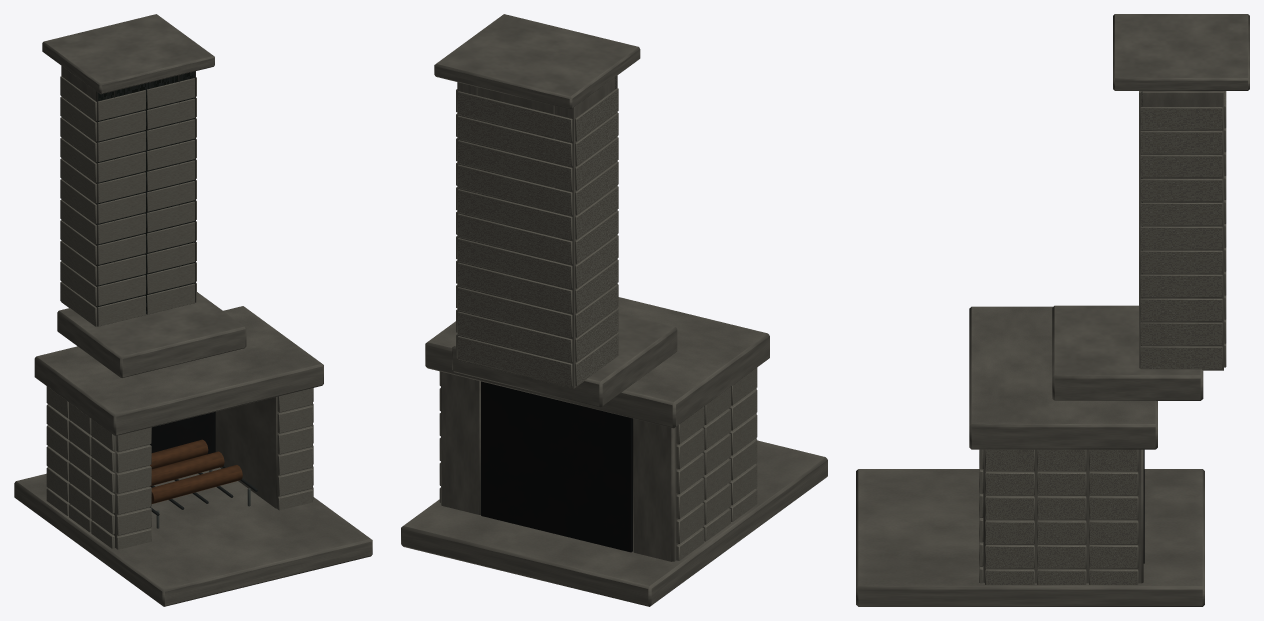
The model's file is level_camp_pavilion_fireplace_refined.glb.
3 renders of one model, left to right at view 1: azimuth 30°, elevation 25°; view 2: azimuth 150°, elevation 25°; view 3: azimuth 270°, elevation 25°, orthographic. The views are drawn at different scales.
Parts seen in each view (by area): view 1: level_camp_pavilion_fireplace_refined; view 2: level_camp_pavilion_fireplace_refined; view 3: level_camp_pavilion_fireplace_refined.
Boxes of the visible parts, x1,y1,x2,y2 form: level_camp_pavilion_fireplace_refined: (14, 14, 372, 606); level_camp_pavilion_fireplace_refined: (401, 14, 827, 606); level_camp_pavilion_fireplace_refined: (856, 14, 1249, 606).
Size of the model in its own units: 3 by 5.88 by 4.17.
Materials: 7 (7 with a texture image).
